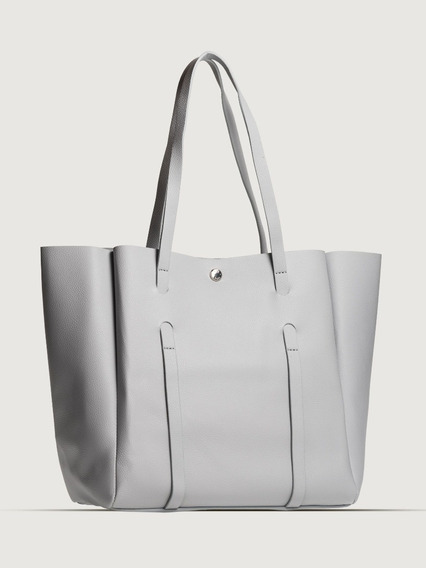cartera: (37, 50, 385, 513)
